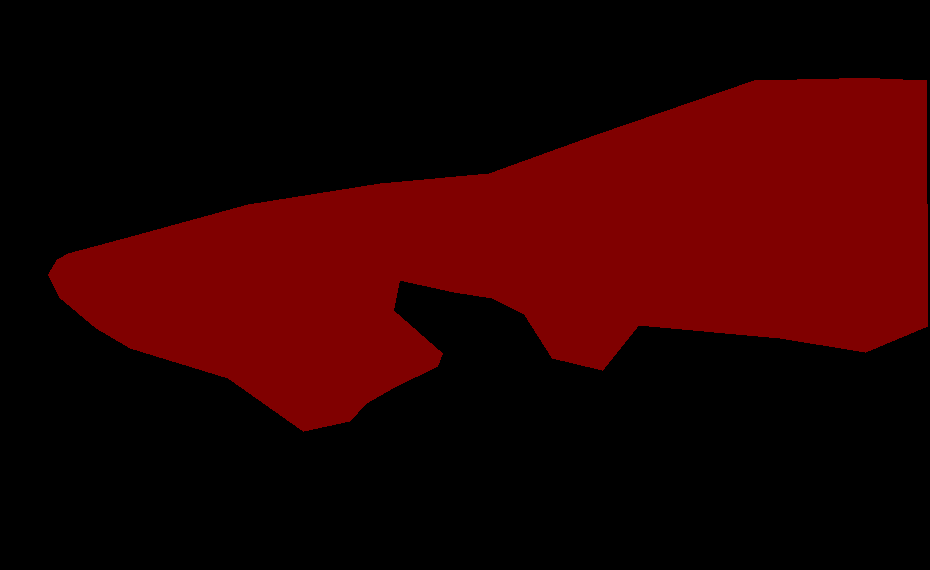fire: (48, 78, 927, 431)
